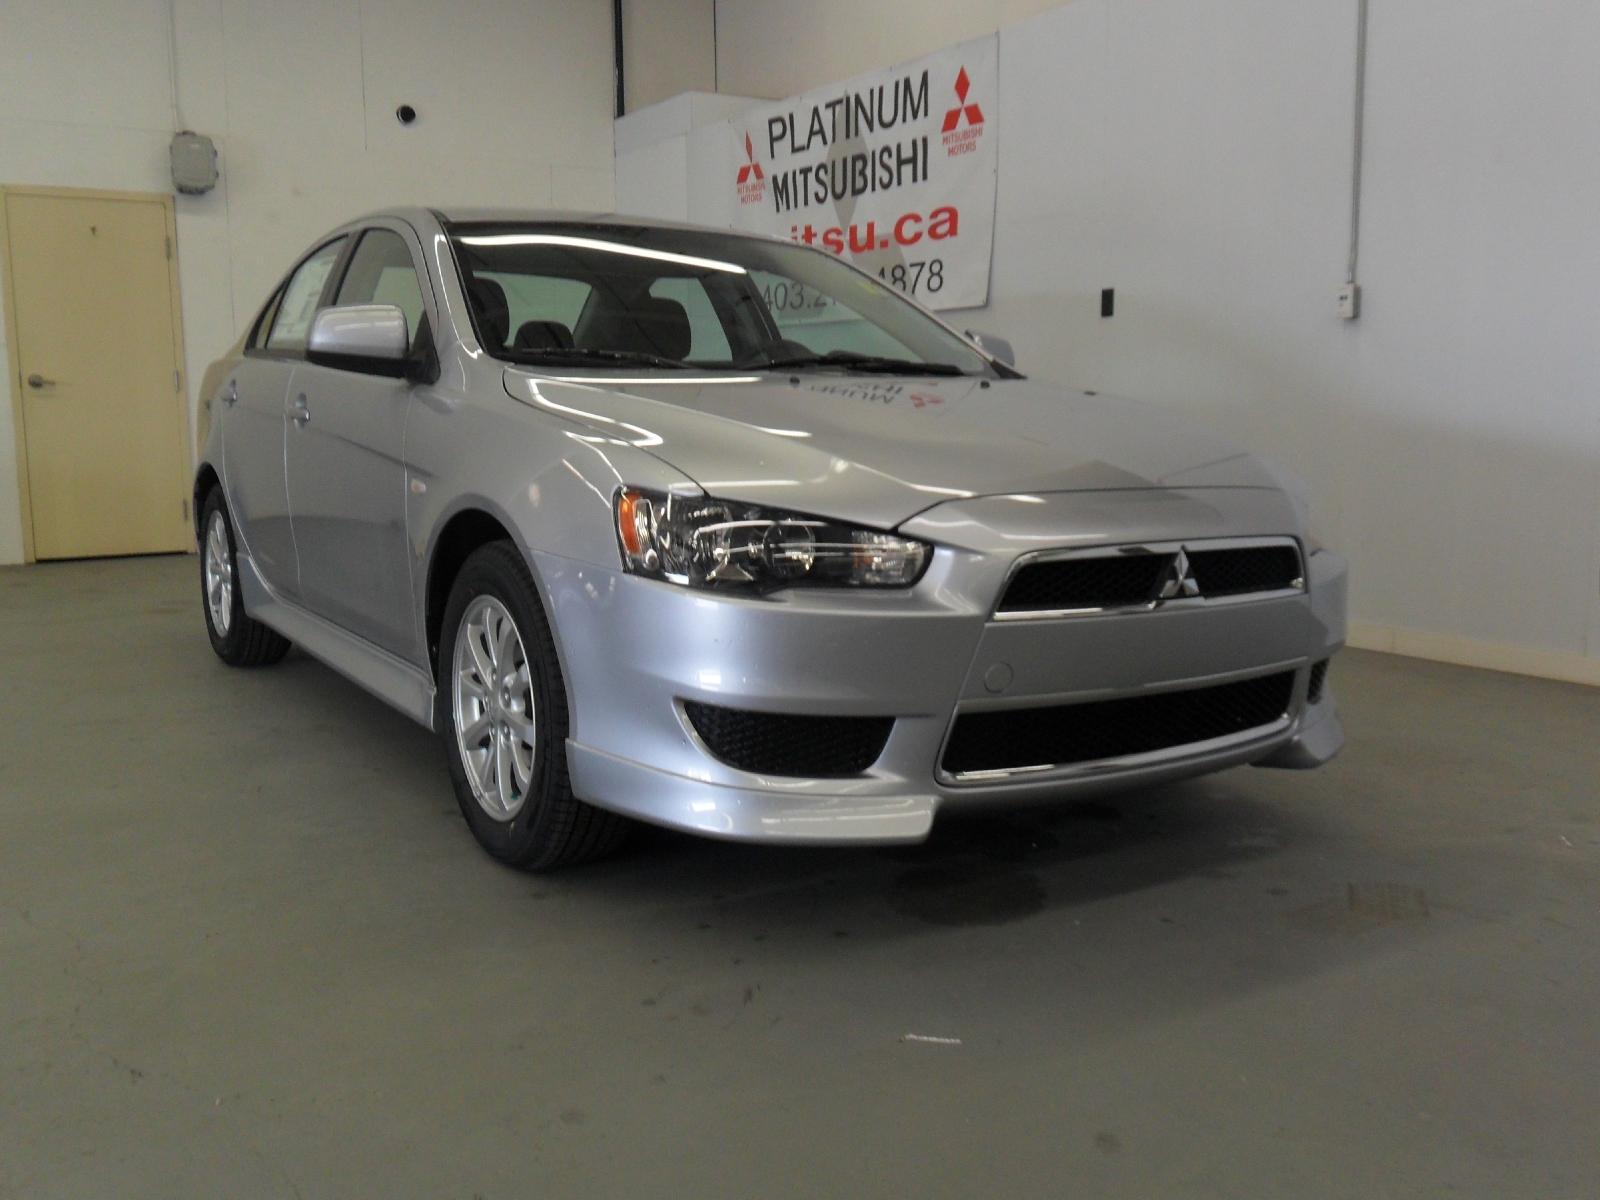Mitsubishi: (1133, 538, 1240, 616)
